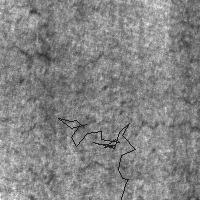crazing: (58, 118, 135, 200), (4, 34, 58, 134), (73, 117, 198, 157)
